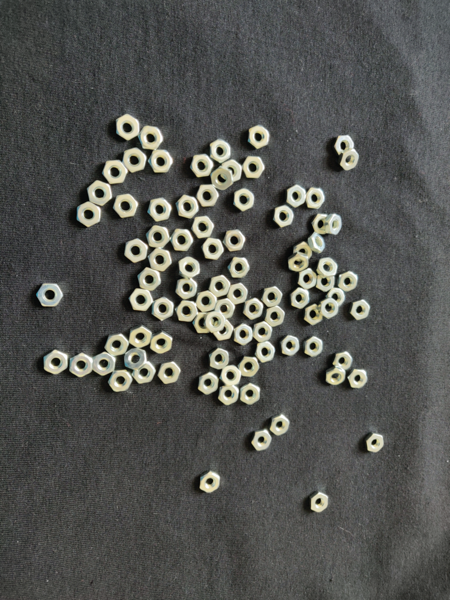nut: (116, 114, 140, 142), (123, 147, 147, 174), (36, 284, 64, 307), (76, 202, 101, 227), (87, 181, 112, 206), (44, 350, 68, 376), (138, 126, 163, 150), (190, 154, 215, 178), (102, 161, 128, 184), (114, 194, 138, 218), (124, 239, 148, 263), (137, 268, 161, 292), (148, 198, 172, 222), (148, 150, 173, 173), (211, 166, 234, 191), (93, 352, 116, 376), (105, 334, 129, 357), (129, 289, 153, 312), (129, 325, 152, 349), (158, 361, 181, 385), (148, 249, 172, 272), (146, 226, 170, 249), (176, 195, 199, 219), (70, 353, 92, 378), (132, 362, 157, 384), (109, 370, 132, 393), (125, 348, 148, 371), (150, 331, 173, 354), (171, 229, 194, 252), (192, 216, 215, 239), (249, 125, 270, 150), (175, 301, 198, 323), (197, 185, 220, 207), (202, 238, 224, 261), (227, 283, 249, 306), (223, 229, 245, 252), (243, 156, 265, 179), (153, 297, 174, 321), (211, 139, 231, 164), (221, 160, 243, 182), (209, 275, 231, 297), (200, 471, 221, 494), (179, 257, 200, 280), (234, 188, 254, 212), (286, 184, 306, 208), (198, 373, 219, 395), (176, 279, 198, 300), (193, 313, 215, 334), (196, 291, 218, 312), (212, 320, 234, 341), (214, 298, 235, 320), (228, 258, 250, 279), (220, 365, 241, 387), (238, 356, 260, 377), (255, 341, 276, 363), (262, 286, 283, 308), (274, 206, 295, 228), (339, 149, 360, 171), (240, 383, 260, 406), (244, 298, 264, 321), (319, 297, 339, 320), (204, 312, 225, 333), (317, 258, 338, 279), (252, 429, 272, 451), (270, 414, 290, 436), (265, 306, 285, 328), (253, 322, 273, 343), (351, 300, 371, 321), (210, 348, 229, 370), (234, 324, 253, 346), (281, 335, 300, 357), (306, 188, 325, 210), (304, 304, 323, 326), (298, 268, 317, 290), (219, 386, 239, 406), (326, 366, 346, 386), (289, 252, 309, 272), (293, 242, 313, 262), (310, 492, 329, 513), (291, 288, 310, 309), (339, 271, 358, 292), (305, 336, 323, 358), (308, 232, 325, 255), (349, 369, 368, 389), (335, 135, 354, 155), (334, 352, 353, 371), (316, 274, 335, 293), (327, 288, 345, 308), (312, 214, 329, 235), (325, 214, 342, 235), (367, 433, 384, 453)
